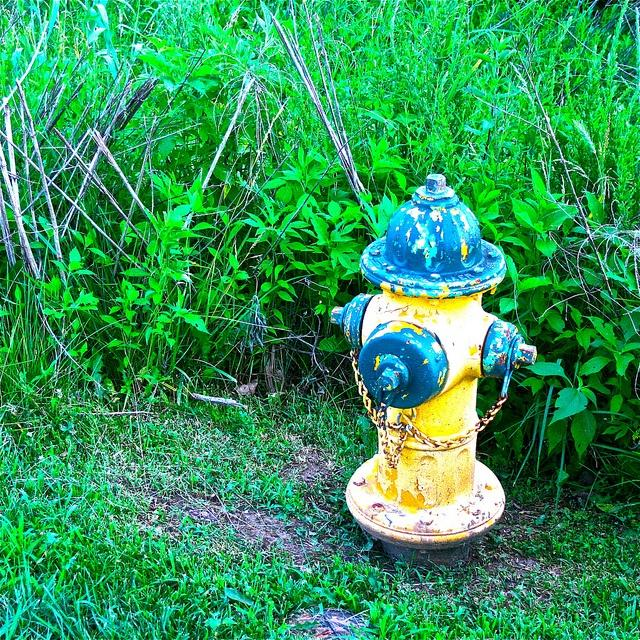fire_hydrant: (325, 168, 531, 543)
